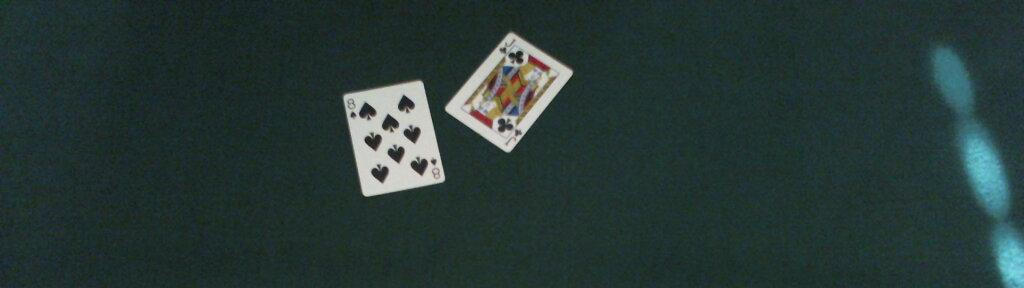eight: (343, 80, 446, 197)
jack: (442, 29, 575, 154)
